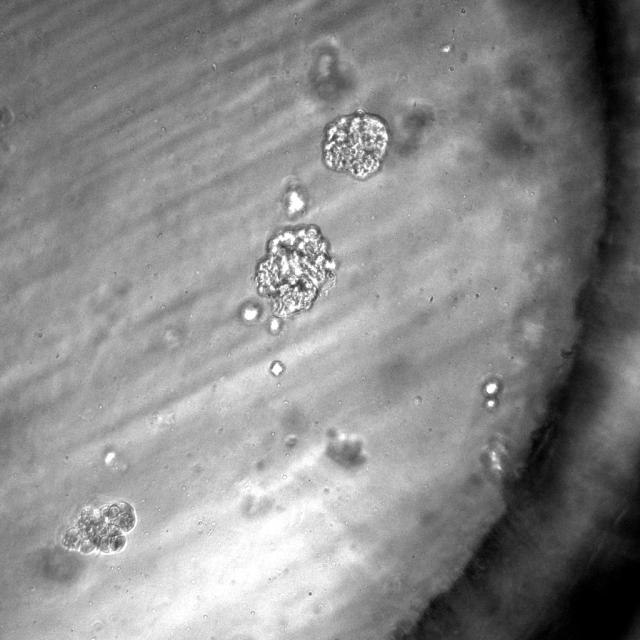organoid: (254, 225, 334, 318), (322, 109, 389, 180), (62, 500, 136, 554)
